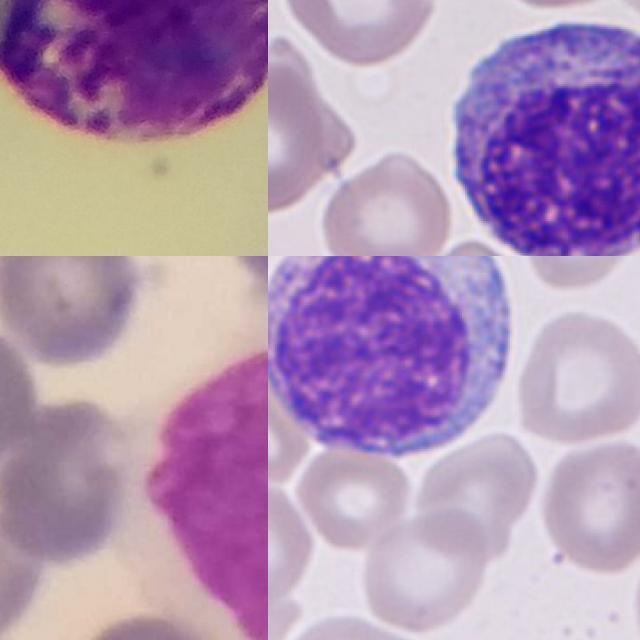Basophil: (0, 0, 268, 141)
Lymphocyte: (268, 256, 527, 470), (440, 7, 640, 256)
Monocyte: (148, 286, 268, 640)
RBC: (512, 305, 640, 447), (412, 428, 540, 566), (356, 504, 493, 632), (317, 146, 456, 256), (538, 434, 640, 575), (291, 444, 414, 554), (268, 45, 340, 219), (274, 0, 443, 68), (268, 475, 316, 607), (517, 256, 638, 296), (282, 611, 433, 640)
